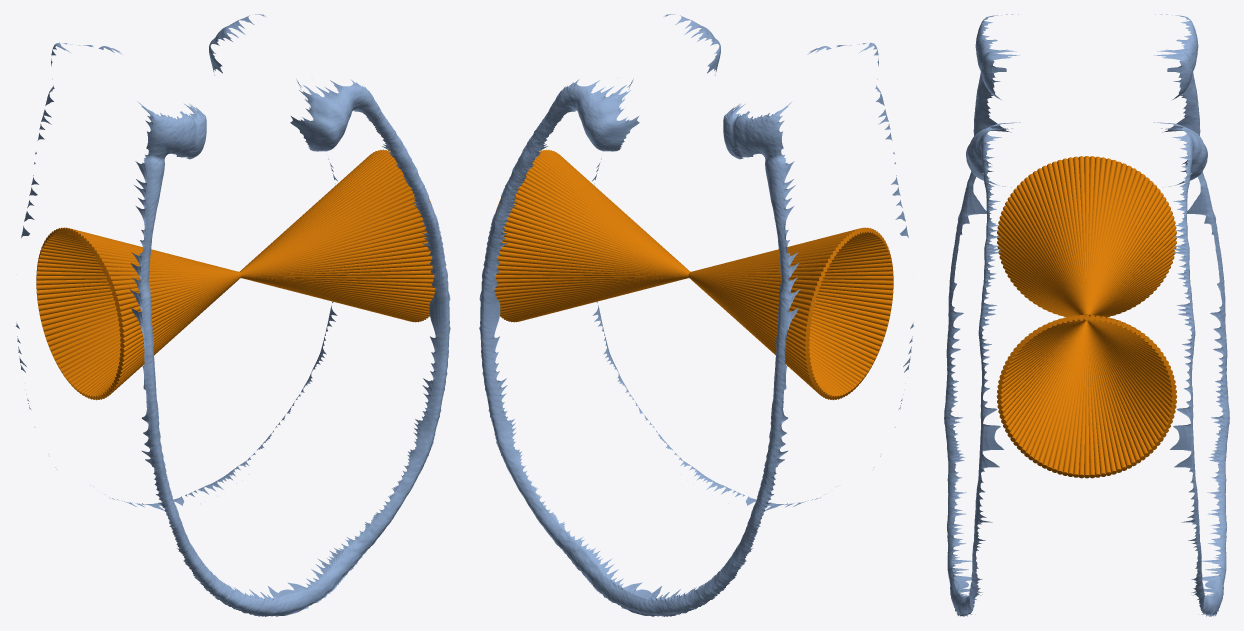
The model's file is A60025030_1135-37-520-5717_DigitalTwin.glb.
3 renders of one model, left to right at view 1: azimuth 30°, elevation 25°; view 2: azimuth 150°, elevation 25°; view 3: azimuth 270°, elevation 25°, orthographic. The views are drawn at different scales.
Parts seen in each view (by area): view 1: world; view 2: world; view 3: world.
Boxes of the visible parts, x1=… form: world: x1=15, y1=14, x2=450, y2=616; world: x1=479, y1=14, x2=914, y2=616; world: x1=944, y1=14, x2=1229, y2=616.
Bounding box in the file's own units: 271 × 416 × 204.
